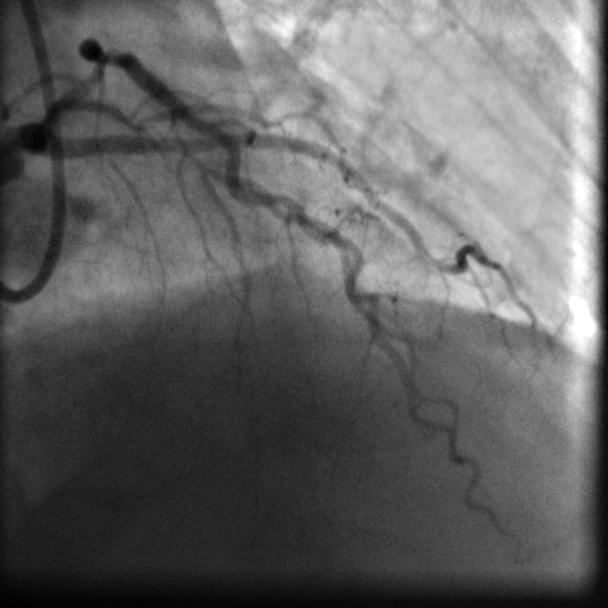Stenosis: (94, 43, 130, 72)
